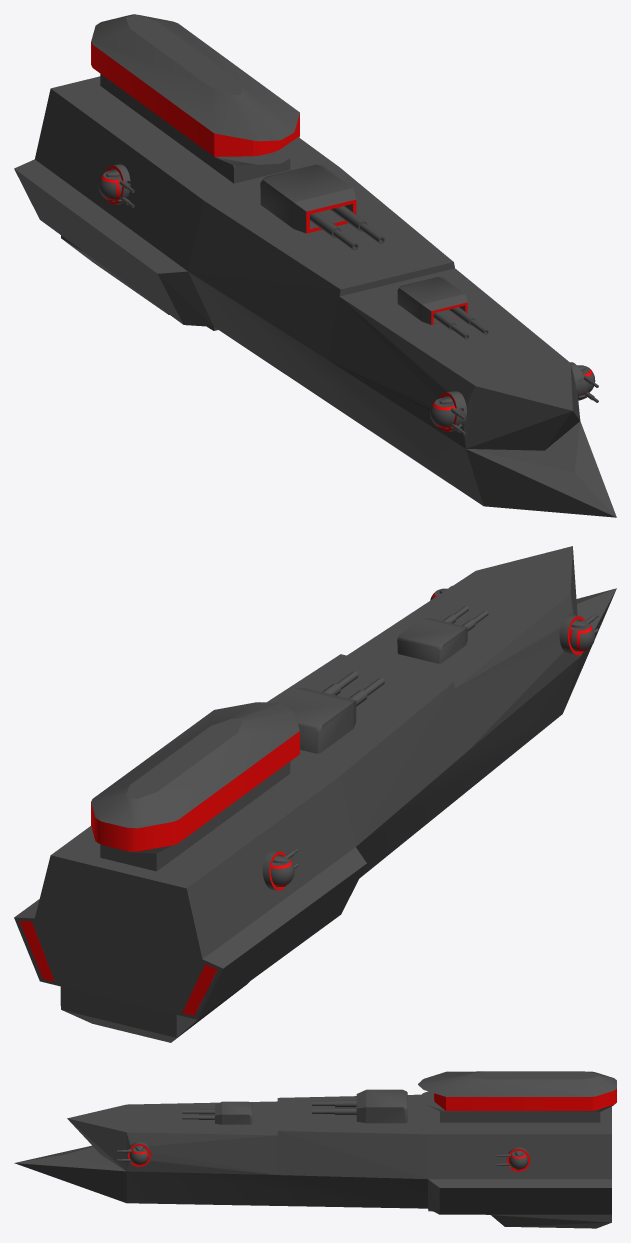
Rendered from Battleship.FBX.
3 views of the same model, one above another, from view 1: azimuth 30°, elevation 25°; view 2: azimuth 150°, elevation 25°; view 3: azimuth 270°, elevation 25° (orthographic). The views are drawn at different scales.
Visible parts, largest first — view 1: Steel, cannon_R, Red, cannon_F; view 2: Steel, Red, cannon_R, cannon_F; view 3: Steel, Red, cannon_R, cannon_F, turret_FL, Turret_BL.
Part boxes in pixels (x1=…): Steel: x1=14, y1=14, x2=616, y2=517; cannon_R: x1=260, y1=164, x2=385, y2=250; Red: x1=91, y1=42, x2=588, y2=431; cannon_F: x1=397, y1=277, x2=488, y2=339; Steel: x1=14, y1=546, x2=616, y2=1042; Red: x1=19, y1=587, x2=584, y2=1015; cannon_R: x1=274, y1=671, x2=384, y2=753; cannon_F: x1=397, y1=605, x2=488, y2=663; Steel: x1=14, y1=1071, x2=616, y2=1228; Red: x1=127, y1=1088, x2=616, y2=1171; cannon_R: x1=312, y1=1089, x2=407, y2=1123; cannon_F: x1=182, y1=1101, x2=252, y2=1124; turret_FL: x1=117, y1=1147, x2=148, y2=1163; Turret_BL: x1=496, y1=1152, x2=528, y2=1168.
Bounding box in the file's own units: 1607 × 1733 × 6684.
